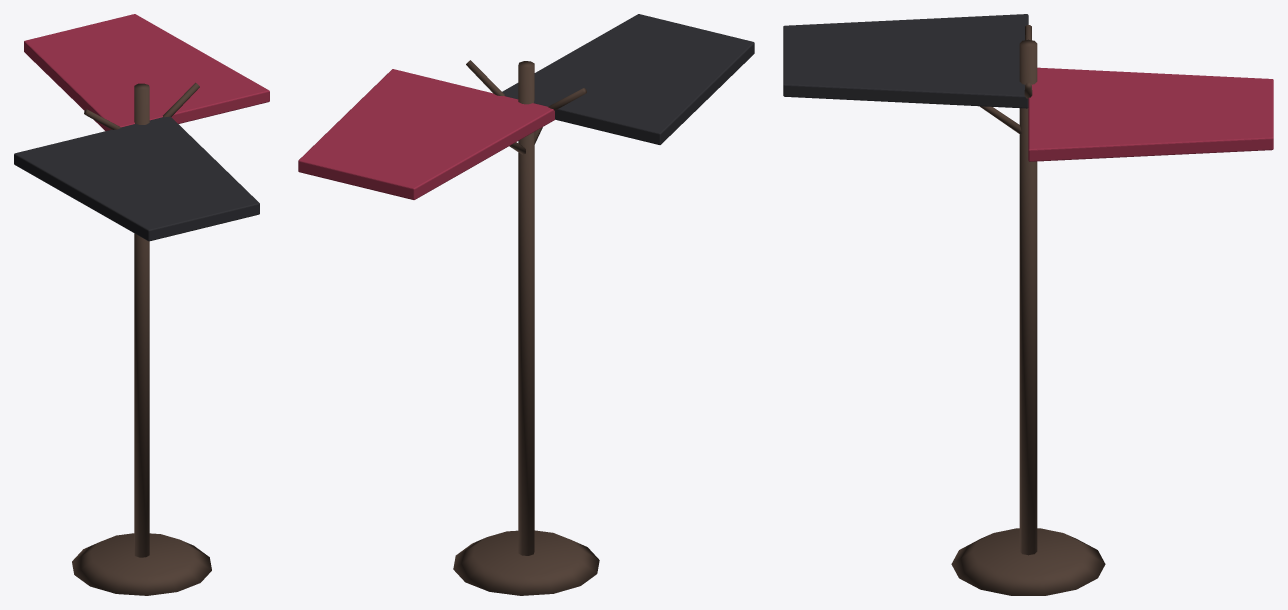
File: hat_stand_cloak_tree.glb
3 views of the same model, side by side, from view 1: azimuth 30°, elevation 25°; view 2: azimuth 150°, elevation 25°; view 3: azimuth 270°, elevation 25° (orthographic). The views are drawn at different scales.
Parts seen in each view (by area): view 1: GD_hat_stand_cloak_tree__m2, GD_hat_stand_cloak_tree__m1, GD_hat_stand_cloak_tree__m0; view 2: GD_hat_stand_cloak_tree__m1, GD_hat_stand_cloak_tree__m2, GD_hat_stand_cloak_tree__m0; view 3: GD_hat_stand_cloak_tree__m1, GD_hat_stand_cloak_tree__m2, GD_hat_stand_cloak_tree__m0.
Boxes of the visible parts, left/top/right/bottom form: GD_hat_stand_cloak_tree__m2: left=14, top=116, right=259, bottom=241; GD_hat_stand_cloak_tree__m1: left=24, top=14, right=269, bottom=130; GD_hat_stand_cloak_tree__m0: left=72, top=82, right=211, bottom=595; GD_hat_stand_cloak_tree__m1: left=298, top=69, right=554, bottom=199; GD_hat_stand_cloak_tree__m2: left=502, top=14, right=754, bottom=144; GD_hat_stand_cloak_tree__m0: left=453, top=60, right=599, bottom=595; GD_hat_stand_cloak_tree__m1: left=1028, top=67, right=1273, bottom=161; GD_hat_stand_cloak_tree__m2: left=783, top=14, right=1028, bottom=108; GD_hat_stand_cloak_tree__m0: left=951, top=25, right=1105, bottom=595.
Bounding box in the file's own units: 0.9191 × 1.64 × 1.4.
